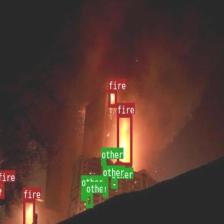fire: (116, 114, 132, 165), (22, 198, 34, 224), (108, 90, 116, 107), (0, 182, 4, 198)
